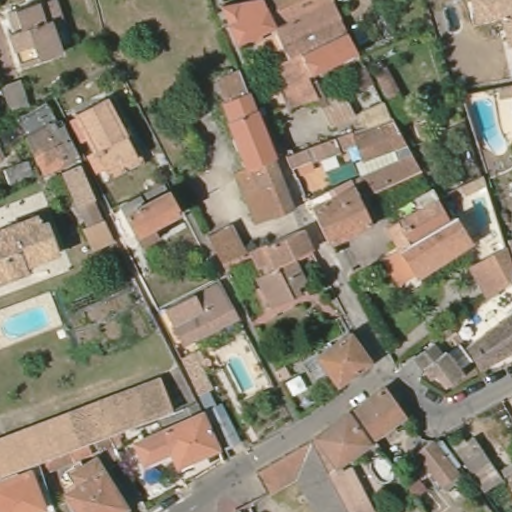pool: (470, 95, 509, 157), (1, 302, 49, 340), (456, 197, 495, 241), (220, 353, 256, 393), (141, 462, 166, 489)
